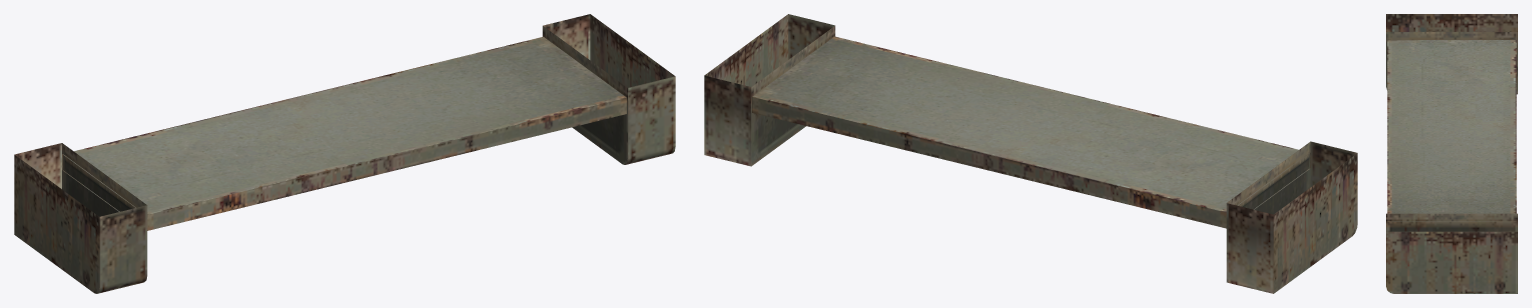
File: sm35_047_offfluorescentlight01a.fbx
3 views of the same model, side by side, from view 1: azimuth 30°, elevation 25°; view 2: azimuth 150°, elevation 25°; view 3: azimuth 270°, elevation 25° (orthographic). The views are drawn at different scales.
Parts seen in each view (by area): view 1: LOD_1_Group_1_Sub_1__sm35_016_FluorescentLight01A_A_Mat; view 2: LOD_1_Group_1_Sub_1__sm35_016_FluorescentLight01A_A_Mat; view 3: LOD_1_Group_1_Sub_1__sm35_016_FluorescentLight01A_A_Mat.
Part boxes in pixels (bbox=[...]): LOD_1_Group_1_Sub_1__sm35_016_FluorescentLight01A_A_Mat: bbox=[14, 14, 675, 293]; LOD_1_Group_1_Sub_1__sm35_016_FluorescentLight01A_A_Mat: bbox=[704, 14, 1357, 293]; LOD_1_Group_1_Sub_1__sm35_016_FluorescentLight01A_A_Mat: bbox=[1386, 14, 1517, 293].
Size of the model in its own units: 1.36 by 0.1812 by 0.3479.
